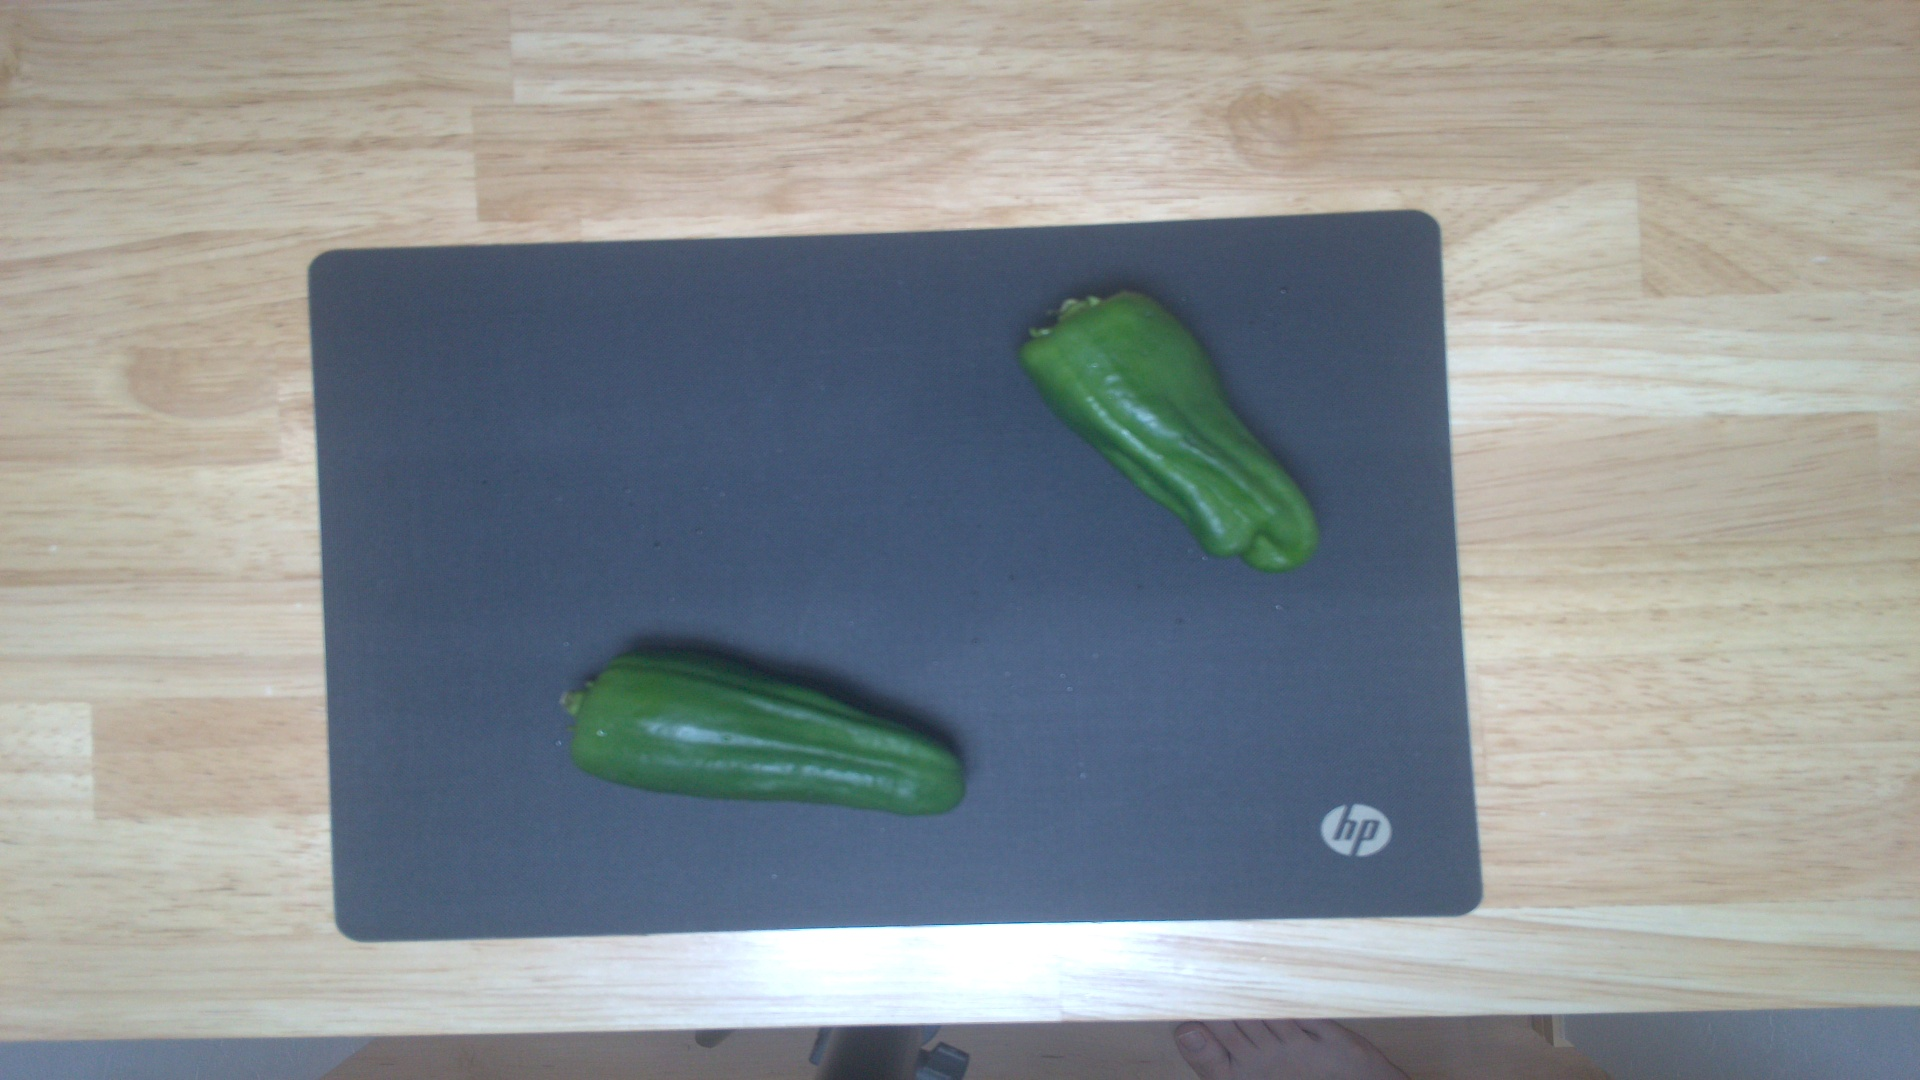Piman: (1017, 282, 1325, 575), (567, 647, 965, 822)
